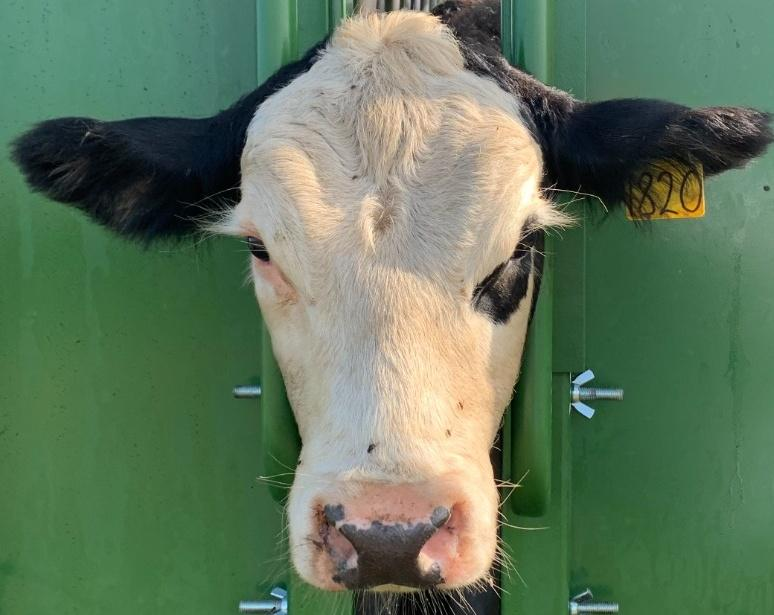muzzles: (275, 469, 511, 604)
